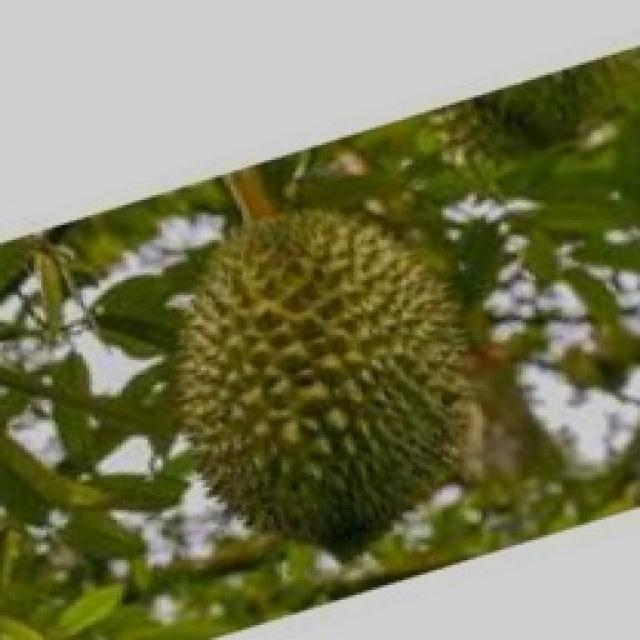fruit: (114, 180, 520, 592)
